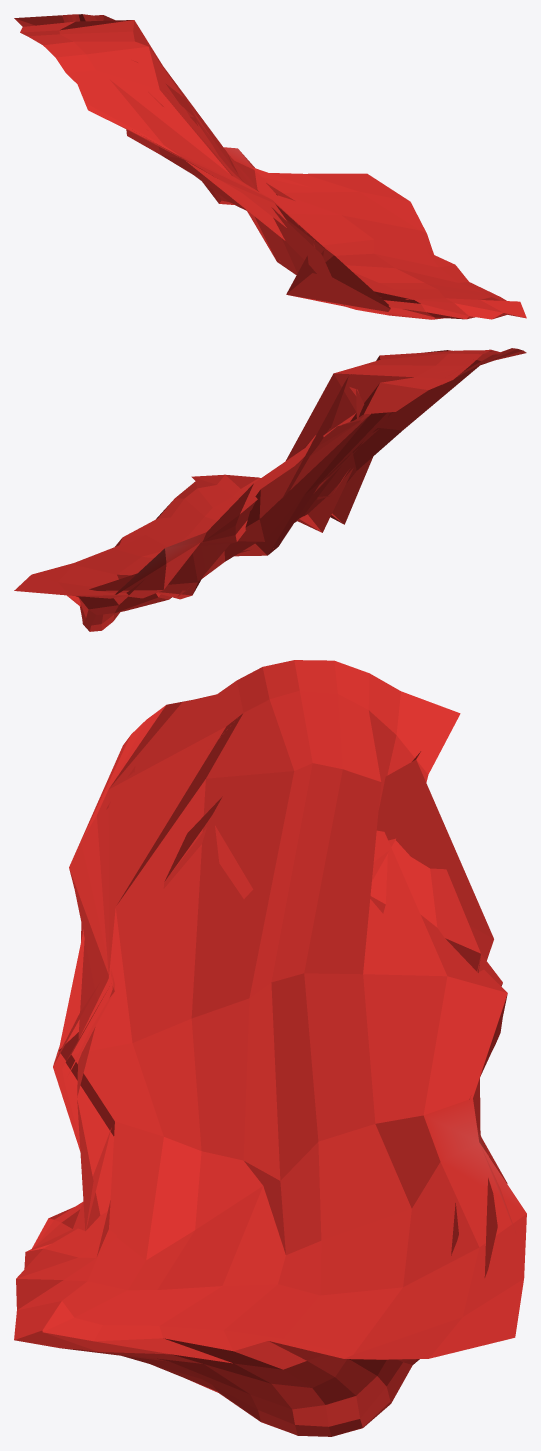
Rendered from Petal1_1.glb.
3 views of the same model, one above another, from view 1: azimuth 30°, elevation 25°; view 2: azimuth 150°, elevation 25°; view 3: azimuth 270°, elevation 25° (orthographic). The views are drawn at different scales.
Parts seen in each view (by area): view 1: Cube.007; view 2: Cube.007; view 3: Cube.007.
Part boxes in pixels (left/top/right/bottom): Cube.007: left=14, top=14, right=526, bottom=319; Cube.007: left=14, top=348, right=526, bottom=631; Cube.007: left=14, top=660, right=526, bottom=1436.
Bounding box in the file's own units: 25.76 × 21.64 × 19.47.
